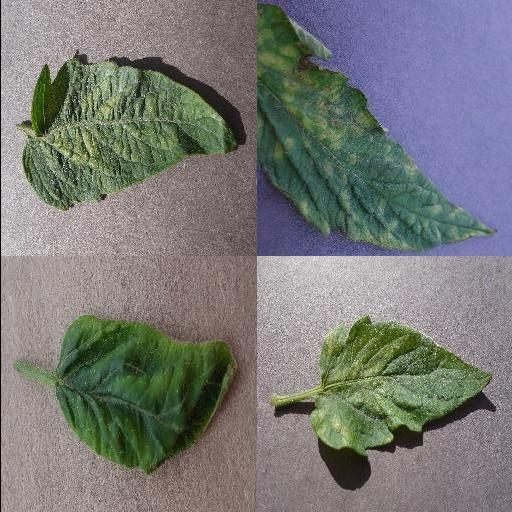Leaf Mold: (256, 2, 500, 250)
Spider Mites: (21, 60, 235, 210), (310, 316, 492, 456)
Yellow Leaf Curl Virus: (53, 316, 239, 476)
